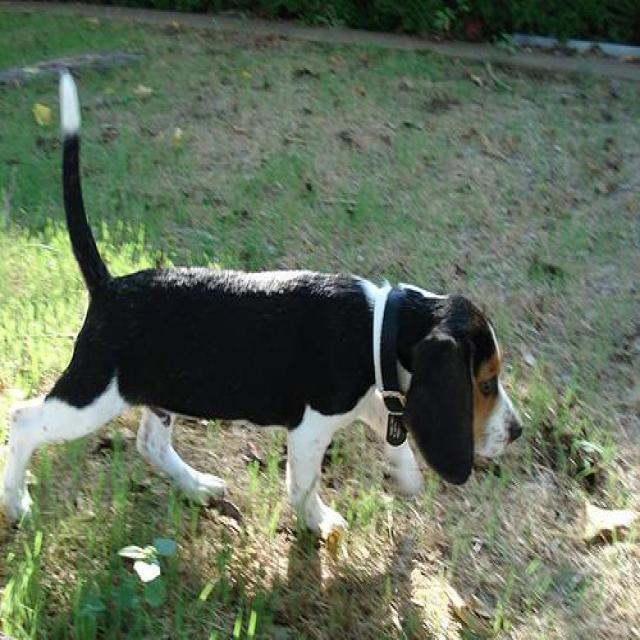puppy-dog: (3, 59, 525, 555)
